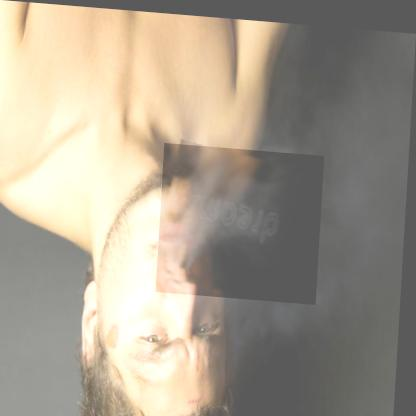smoke: (159, 140, 326, 299)
